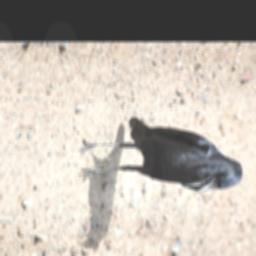Crow: (72, 113, 253, 196)
